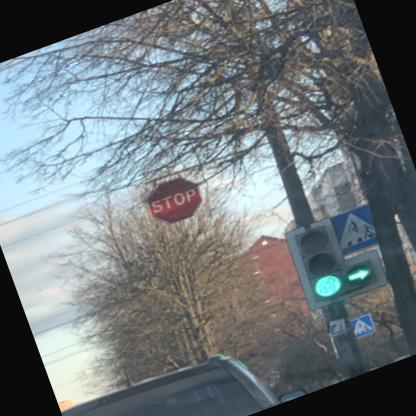crosswalk: (328, 202, 378, 252), (346, 311, 375, 338)
stop: (139, 170, 206, 228)
trafficlight: (290, 211, 379, 303)
